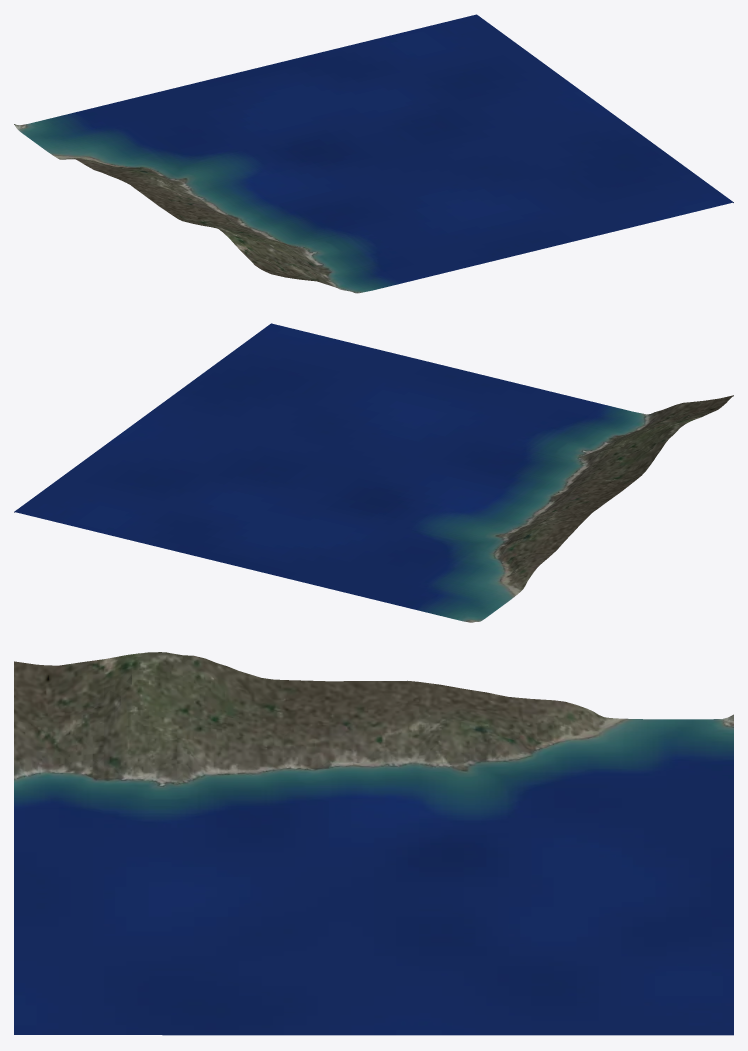
3 views of the same model, one above another, from view 1: azimuth 30°, elevation 25°; view 2: azimuth 150°, elevation 25°; view 3: azimuth 270°, elevation 25° (orthographic). The views are drawn at different scales.
Bounding box in the file's own units: 500 × 50.6 × 481.
1 material, 1 textured.
